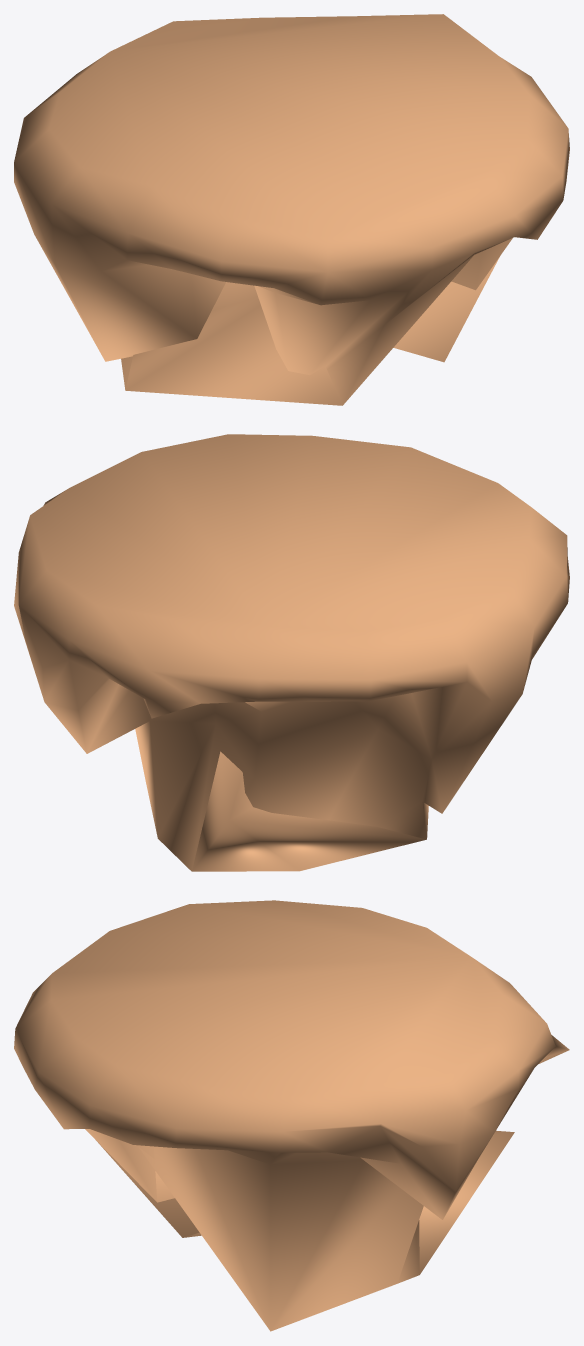
File: platform.fbx
3 renders of one model, top to bottom at view 1: azimuth 30°, elevation 25°; view 2: azimuth 150°, elevation 25°; view 3: azimuth 270°, elevation 25°, orthographic. The views are drawn at different scales.
Parts seen in each view (by area): view 1: Circle; view 2: Circle; view 3: Circle.
Boxes of the visible parts, <box> form: Circle: <box>14,14,569,405</box>; Circle: <box>14,434,569,871</box>; Circle: <box>14,900,569,1331</box>.
Bounding box in the file's own units: 782 × 453 × 829.
